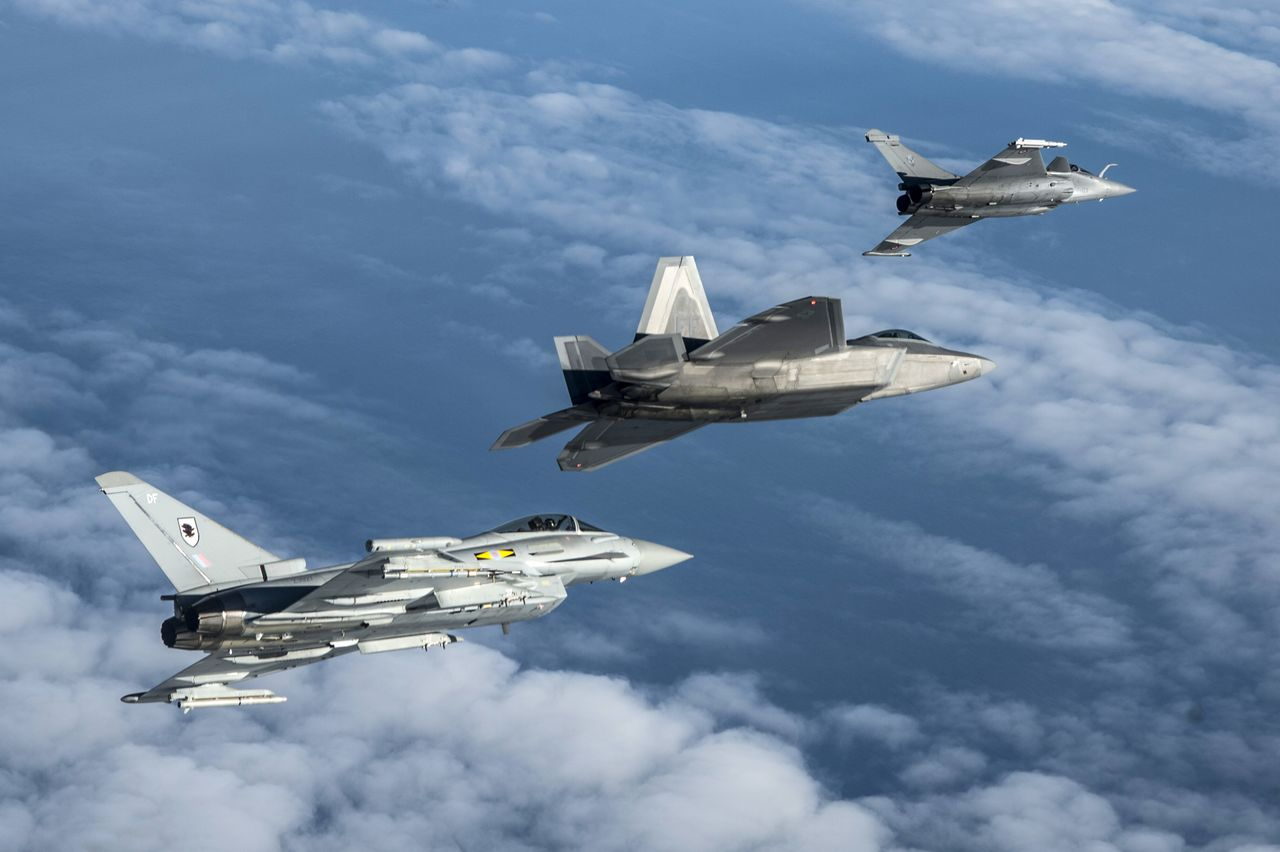Aeronef_militaire: (67, 443, 730, 725), (482, 245, 1046, 484), (845, 112, 1143, 267)
